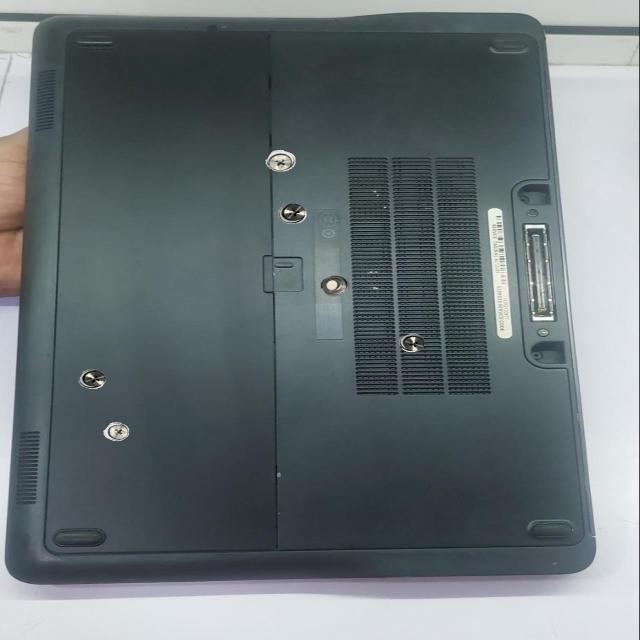lock: (265, 150, 295, 172), (278, 203, 307, 224), (78, 369, 106, 389), (398, 333, 425, 352), (103, 422, 129, 441)
missing_screw: (320, 275, 349, 296)
